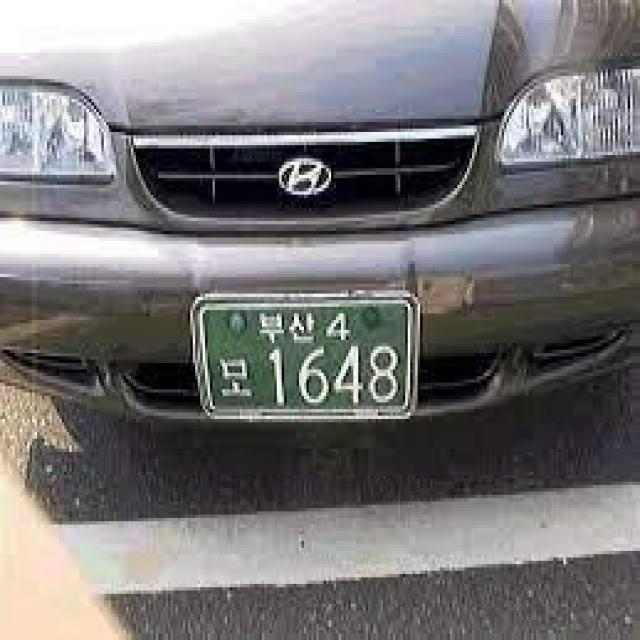illegal_plate: (184, 278, 427, 429)
